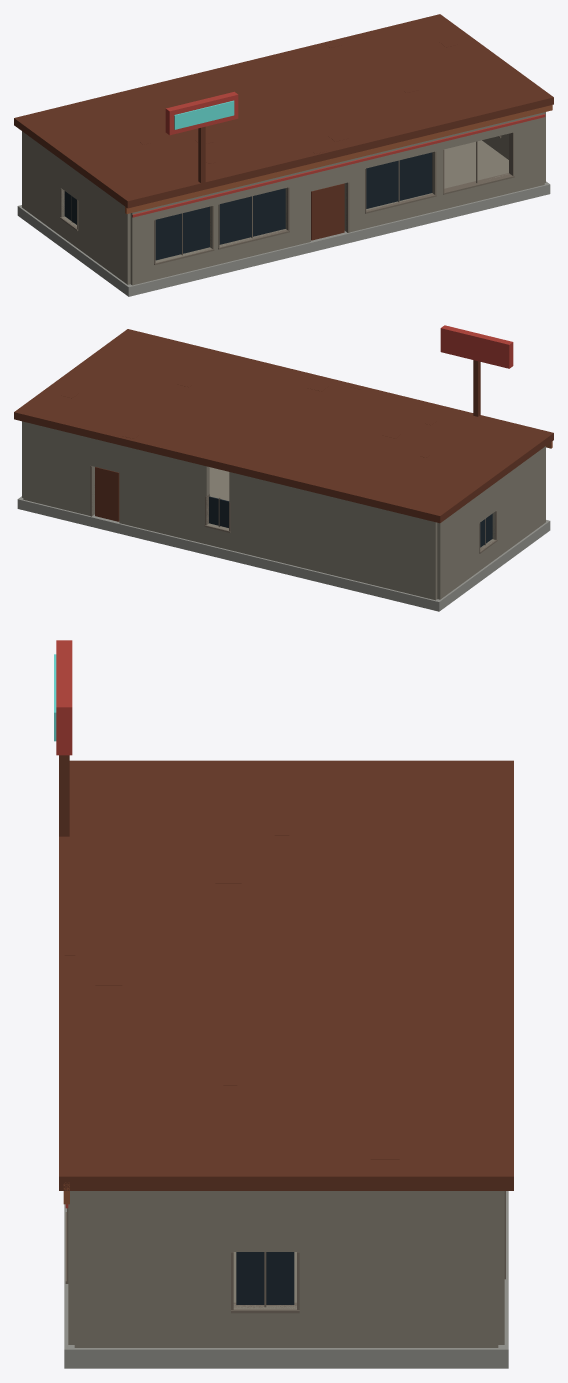
The model's file is GB_Diner_Damaged_01.glb.
3 renders of one model, top to bottom at view 1: azimuth 30°, elevation 25°; view 2: azimuth 150°, elevation 25°; view 3: azimuth 270°, elevation 25°, orthographic. The views are drawn at different scales.
Parts seen in each view (by area): view 1: GB_Diner_Damaged_01; view 2: GB_Diner_Damaged_01; view 3: GB_Diner_Damaged_01.
Boxes of the visible parts, <box> form: GB_Diner_Damaged_01: <box>14,14,553,296</box>; GB_Diner_Damaged_01: <box>14,325,553,611</box>; GB_Diner_Damaged_01: <box>54,640,513,1368</box>.
Size of the model in its own units: 18.6 by 7.4 by 8.7.
1 material, 1 textured.
